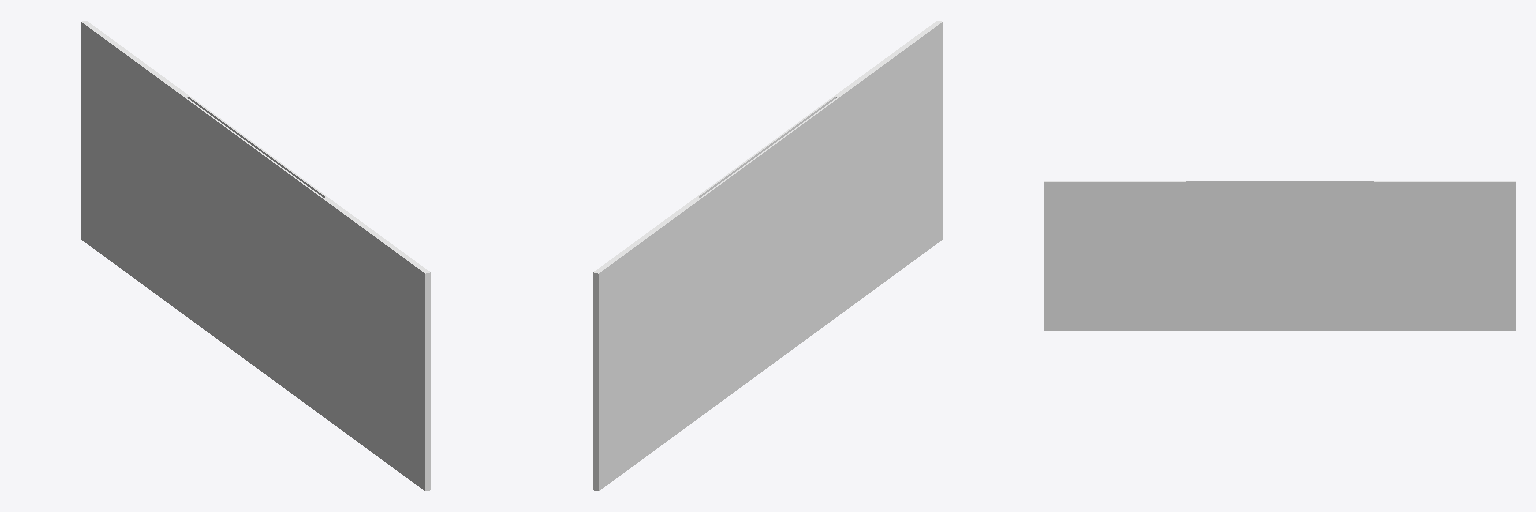
The robot description file, URDF, robot "insert_task_block4":
<?xml version="1.0" ?>
<robot name="insert_task_block4">
  <link name="insert_task_block4_link">
    <inertial>
      <mass value="3.3"/>
      <origin rpy="0 0 0" xyz="0 0 0"/>
      <inertia ixx="4.51" ixy="0.0" ixz="0.0" iyy="4.51" iyz="0.0" izz="4.51"/>
    </inertial>
    <collision name="insert_task_block4__collision">
      <origin rpy="0 0 0" xyz="0 0 0"/>
      <geometry>
        <mesh filename="package://meshes/insert_task_block4.dae" scale="0.05 5.5 2.4"/>
      </geometry>
    </collision>
    <visual name="insert_task_block4__visual">
      <origin rpy="0 0 0" xyz="0 0 0"/>
      <geometry>
        <mesh filename="package://meshes/insert_task_block4.dae" scale="0.05 5.5 2.4"/>
      </geometry>
      <material name="blockmat">
        <color rgba="1.0 1.0 1.0 1"/>
      </material>
    </visual>
  </link>
</robot>

--- Render facts (derived) ---
Views: 3 orthographic renders of the robot side by side, from view 1: azimuth 30°, elevation 25°; view 2: azimuth 150°, elevation 25°; view 3: azimuth 270°, elevation 25°.
Model insert_task_block4 with 1 links and 0 joints (none), rooted at insert_task_block4_link, posed every joint at zero.
Visible links, largest first — view 1: insert_task_block4_link; view 2: insert_task_block4_link; view 3: insert_task_block4_link.
Link boxes in pixels (x1,y1,x2,y2): insert_task_block4_link: (81, 21, 430, 490); insert_task_block4_link: (593, 21, 942, 490); insert_task_block4_link: (1044, 181, 1515, 330).
Size in the robot's own frame: 0.005 by 0.55 by 0.192 metres.
Meshes: 1 distinct files referenced, 1 mesh visuals loaded (1 Collada DAE).